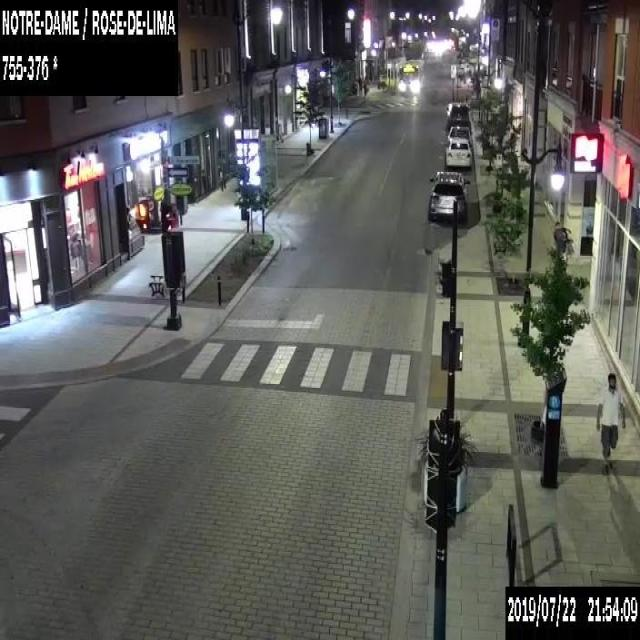bus: (397, 59, 424, 92)
pedestrian: (595, 371, 626, 474), (357, 76, 361, 93)
vehicle: (427, 171, 470, 221), (444, 136, 472, 168), (444, 101, 471, 131), (450, 116, 472, 136), (447, 125, 470, 140)
